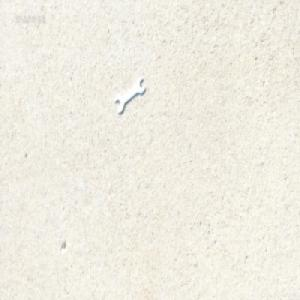Wrench: (114, 78, 145, 114)
